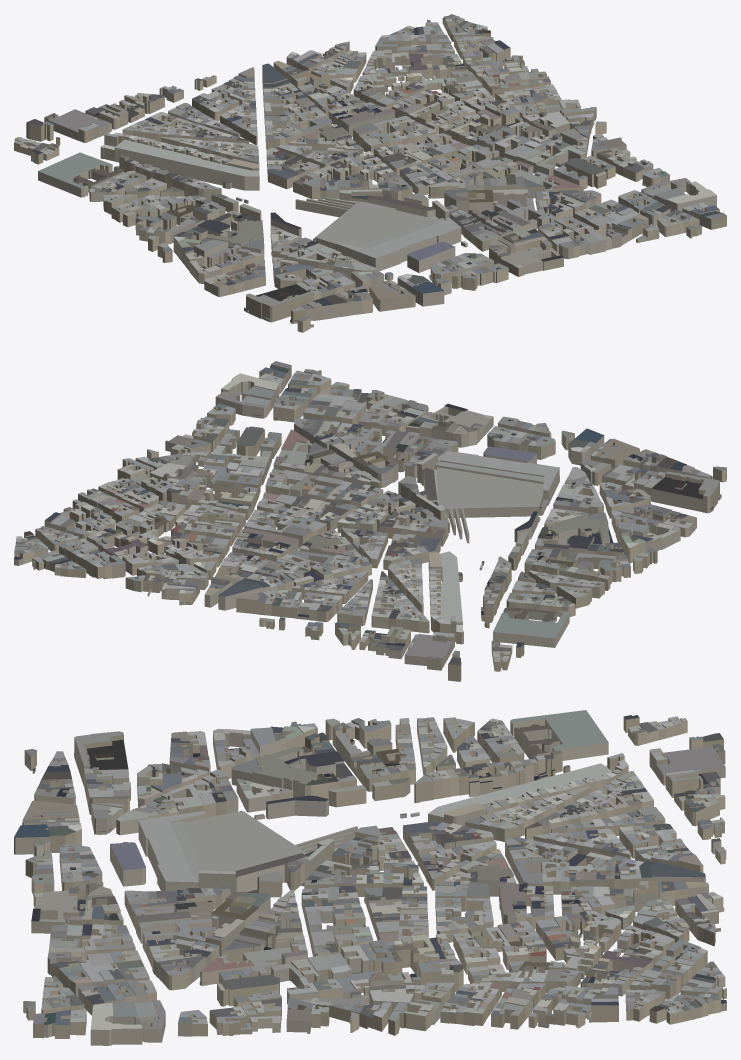
The picture shows the model from 3 angles, top to bottom: view 1: azimuth 30°, elevation 25°; view 2: azimuth 150°, elevation 25°; view 3: azimuth 270°, elevation 25°; orthographic projection. The views are drawn at different scales.
Visible parts, largest first — view 1: tuile; view 2: tuile; view 3: tuile.
Boxes of the visible parts, <box> form: tuile: <box>14,14,726,332</box>; tuile: <box>14,361,726,681</box>; tuile: <box>14,710,726,1045</box>.
Size of the model in its own units: 1064 by 61.96 by 1023.
